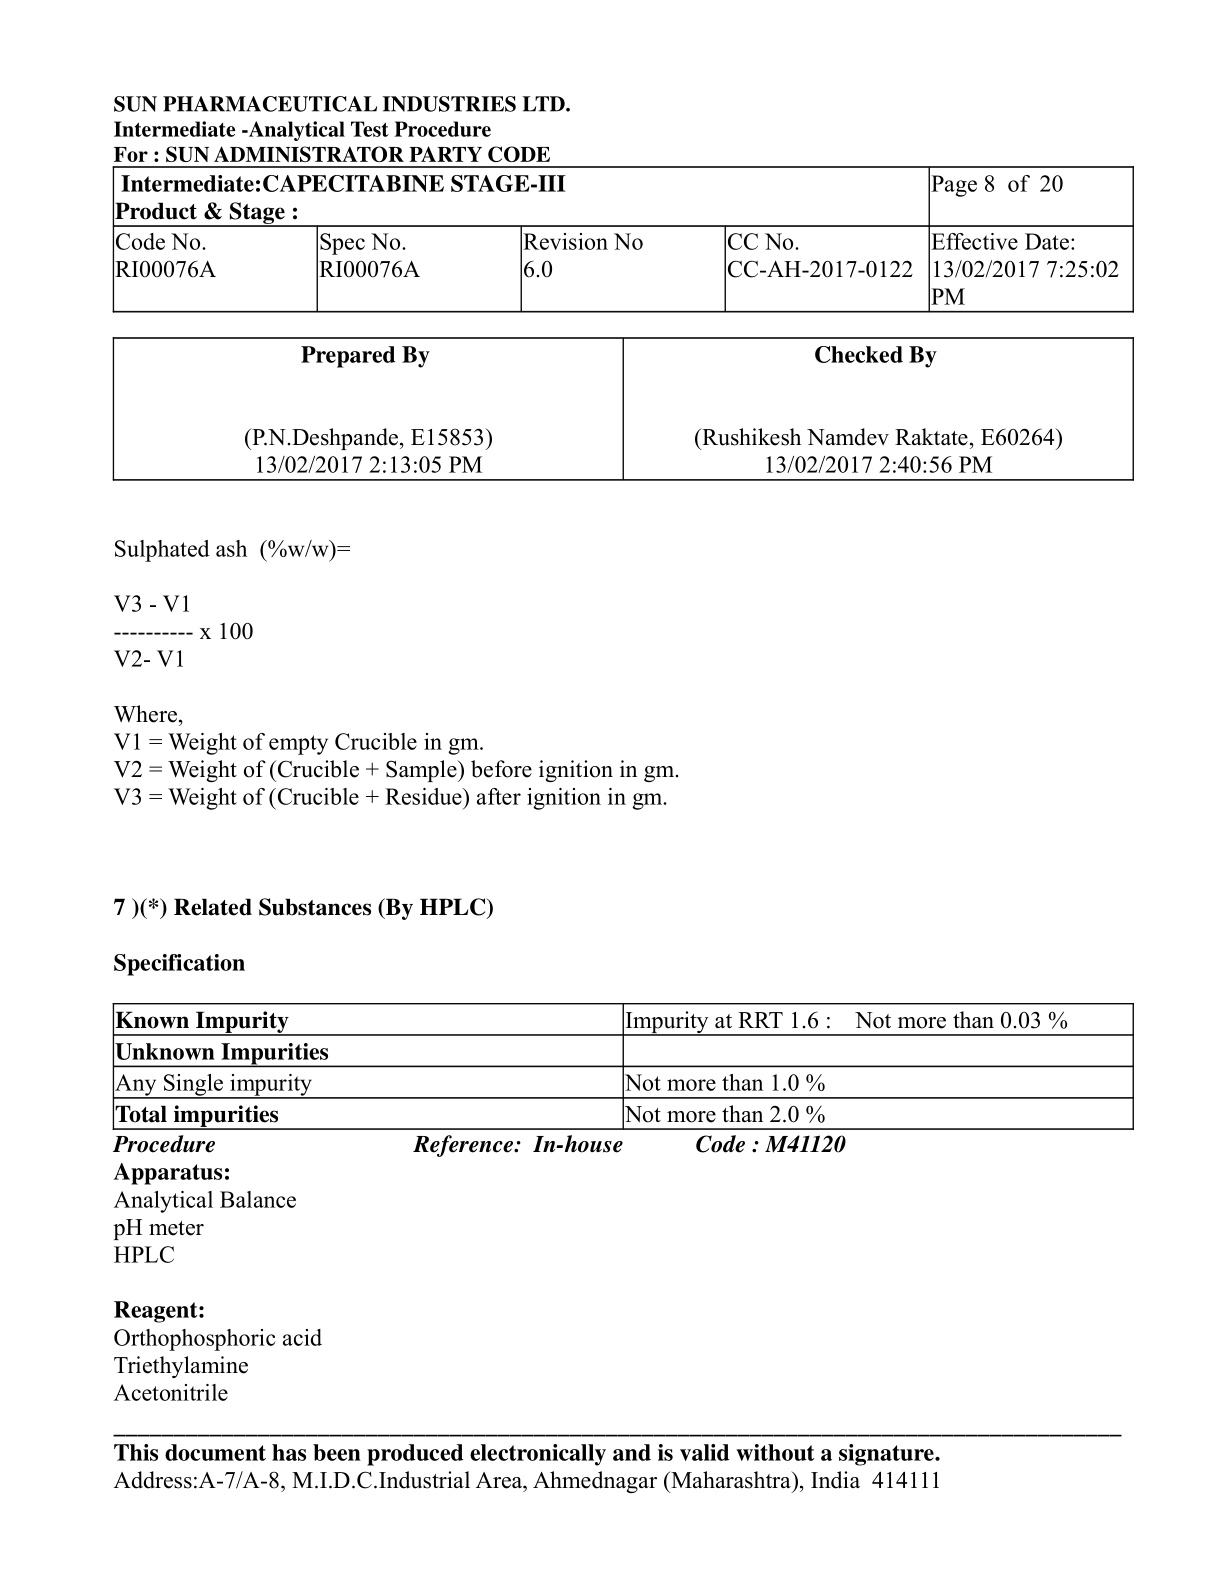full_lined: (111, 336, 1134, 481), (112, 1003, 1134, 1130)
merged_cells: (112, 166, 1135, 312)
